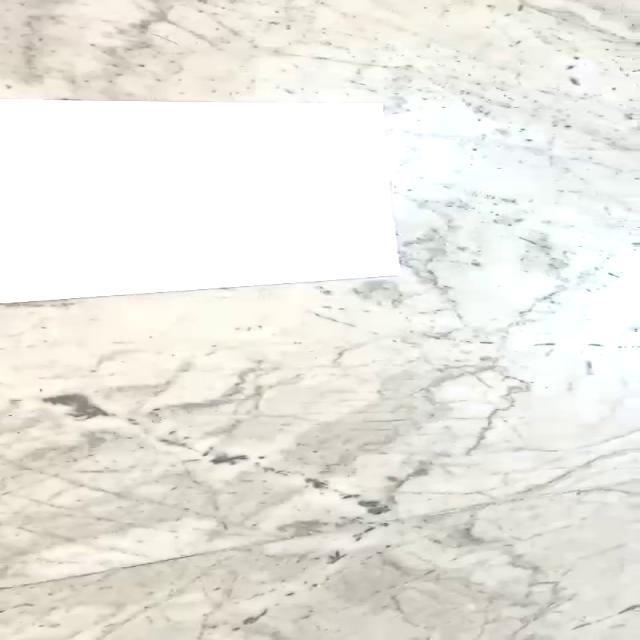road: (0, 100, 401, 305)
